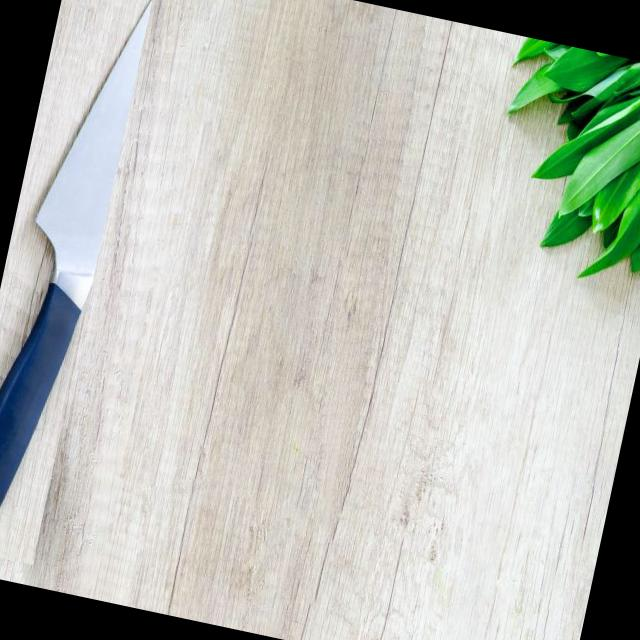Knife: (0, 0, 152, 508)
